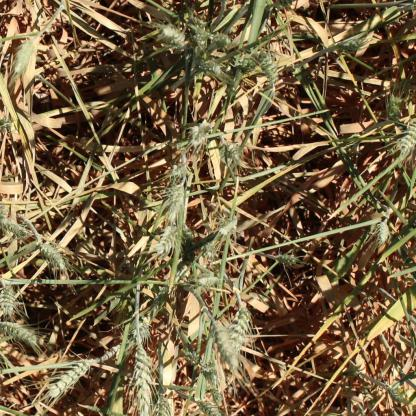whd: (49, 358, 95, 398), (134, 344, 152, 416), (212, 321, 238, 370), (228, 304, 251, 352), (0, 321, 37, 346), (254, 50, 278, 83), (14, 39, 35, 72), (40, 243, 66, 269), (156, 25, 185, 48), (165, 184, 183, 221), (0, 215, 28, 236), (156, 226, 177, 253), (400, 123, 416, 157), (0, 285, 16, 316), (191, 28, 212, 48), (194, 59, 220, 75), (131, 322, 149, 345), (196, 400, 221, 416), (386, 94, 402, 119), (336, 38, 364, 51), (154, 395, 170, 415), (226, 143, 242, 163), (198, 272, 218, 288), (200, 364, 218, 381), (190, 126, 206, 145), (274, 252, 299, 264), (242, 54, 256, 74), (376, 221, 388, 243), (220, 219, 236, 235), (388, 388, 404, 404), (212, 32, 230, 46), (235, 276, 255, 288), (170, 162, 186, 176), (211, 388, 222, 405), (193, 30, 206, 44), (277, 0, 295, 10), (396, 2, 416, 11), (0, 117, 11, 132), (180, 227, 191, 242), (205, 242, 215, 258), (182, 348, 195, 360), (0, 204, 8, 219), (234, 270, 251, 277), (196, 18, 207, 28), (174, 140, 183, 150)
